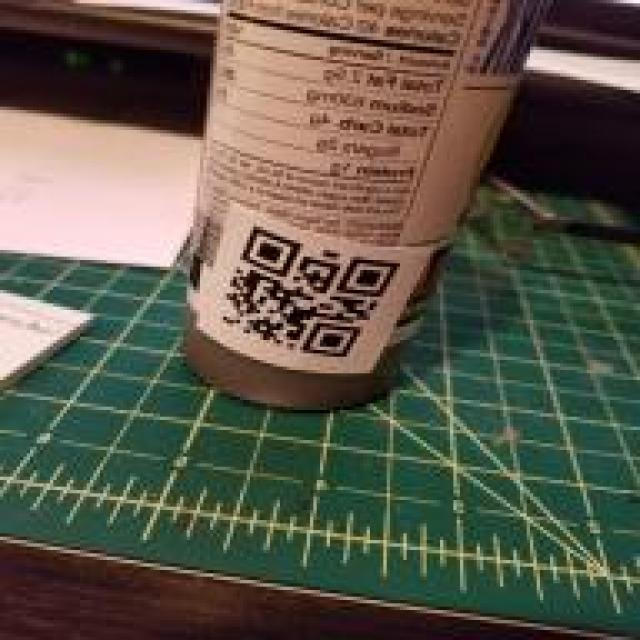QR_CODE: (212, 223, 410, 362)
